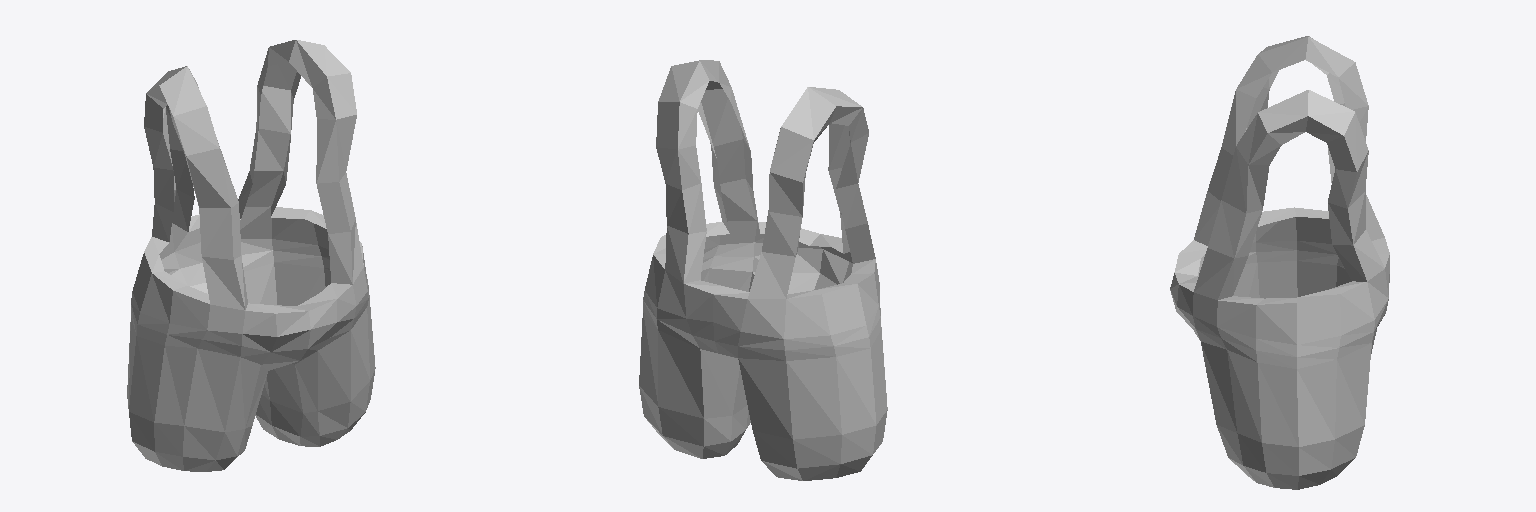
File: Pants_Farmer.obj
The picture shows the model from 3 angles: view 1: azimuth 30°, elevation 25°; view 2: azimuth 150°, elevation 25°; view 3: azimuth 270°, elevation 25°; orthographic projection.
Parts seen in each view (by area): view 1: Pants_Farmer; view 2: Pants_Farmer; view 3: Pants_Farmer.
Part boxes in pixels (x1,y1,x2,y2): Pants_Farmer: (127, 40, 375, 471); Pants_Farmer: (639, 60, 887, 480); Pants_Farmer: (1170, 36, 1389, 489).
Size of the model in its own units: 55.83 by 87.32 by 45.11.